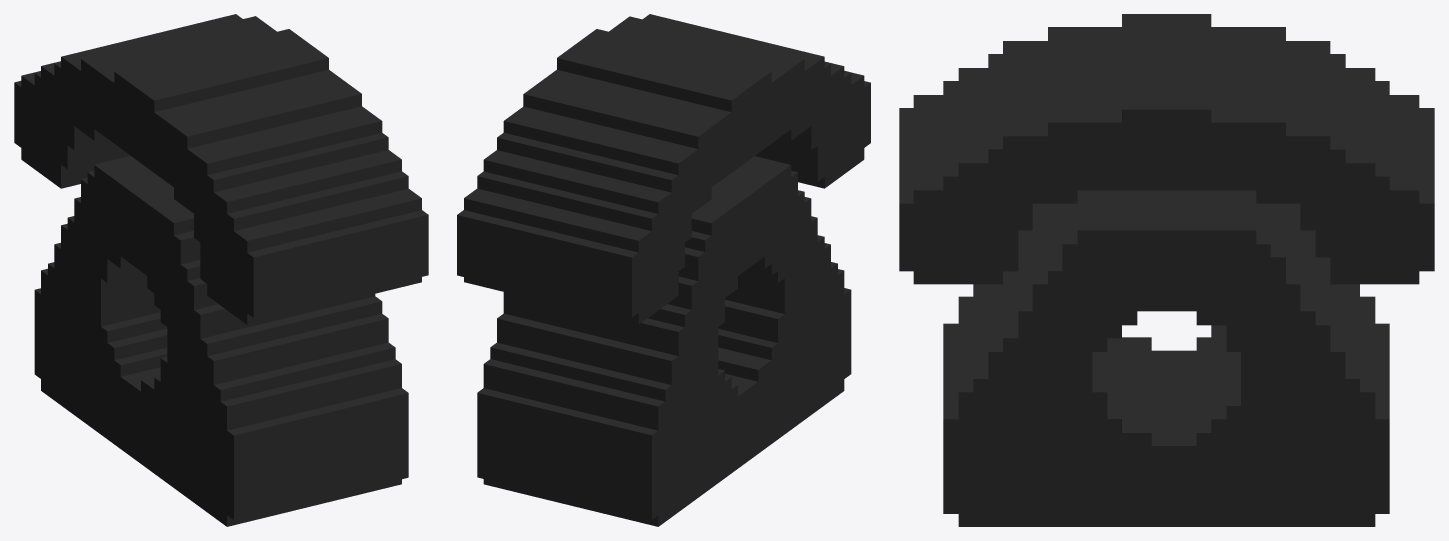
Rendered from phone.gltf.
The picture shows the model from 3 angles, left to right: view 1: azimuth 30°, elevation 25°; view 2: azimuth 150°, elevation 25°; view 3: azimuth 270°, elevation 25°; orthographic projection. The views are drawn at different scales.
Parts seen in each view (by area): view 1: Icon; view 2: Icon; view 3: Icon.
Boxes of the visible parts, x1,y1,x2,y2 form: Icon: [14, 14, 428, 526]; Icon: [457, 14, 870, 526]; Icon: [899, 14, 1434, 526].
Bounding box in the file's own units: 76.36 × 156 × 181.
